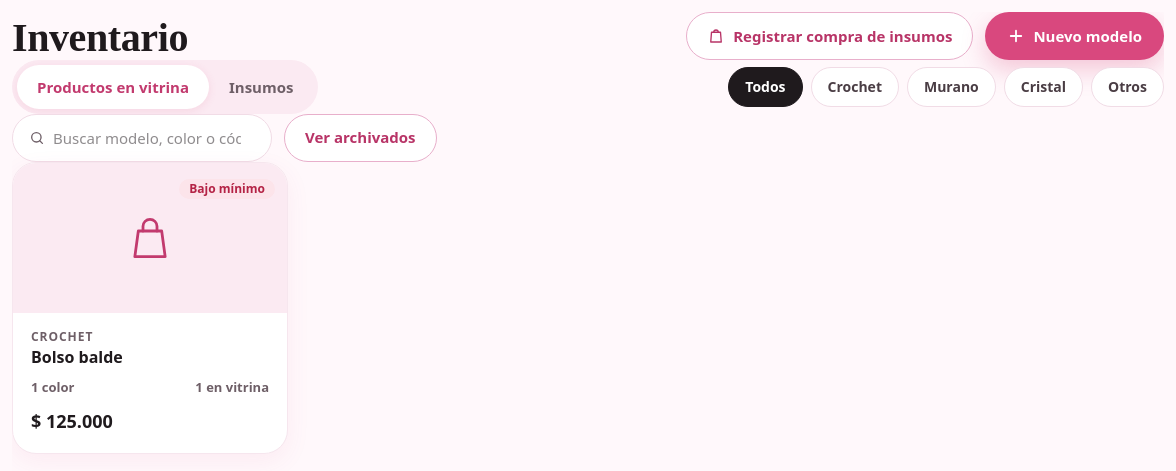
Test: búsqueda sin resultados ofrece borrarla
expect the heading "Bolso balde" is shown: met, box [31, 346, 123, 368]
Type "zz" into the search field labelled "Buscar" at (154, 138), box [53, 127, 255, 149]
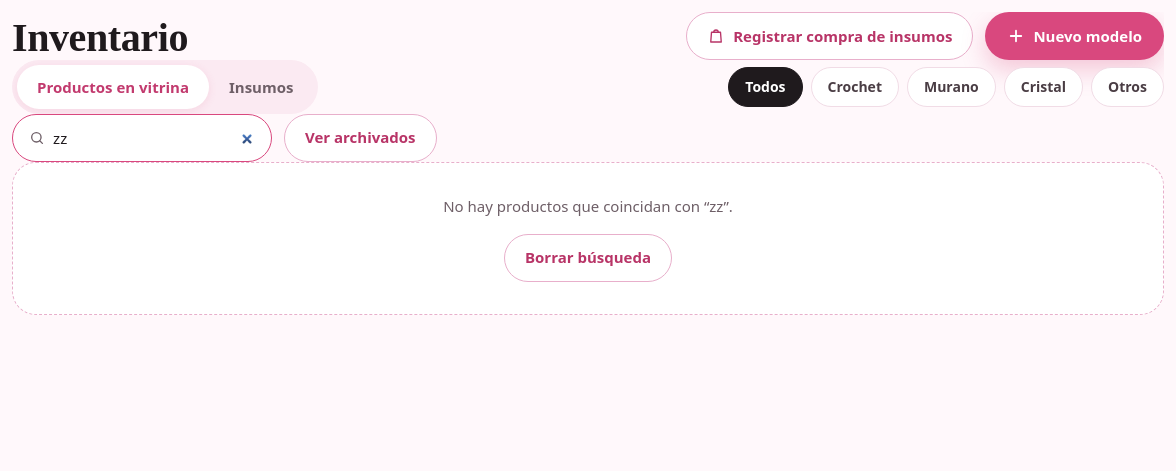
expect the text "No hay productos que coincidan con “zz”." is shown: met, box [443, 195, 733, 218]
Click the button "Borrar búsqueda" at (588, 258), box [504, 234, 672, 282]
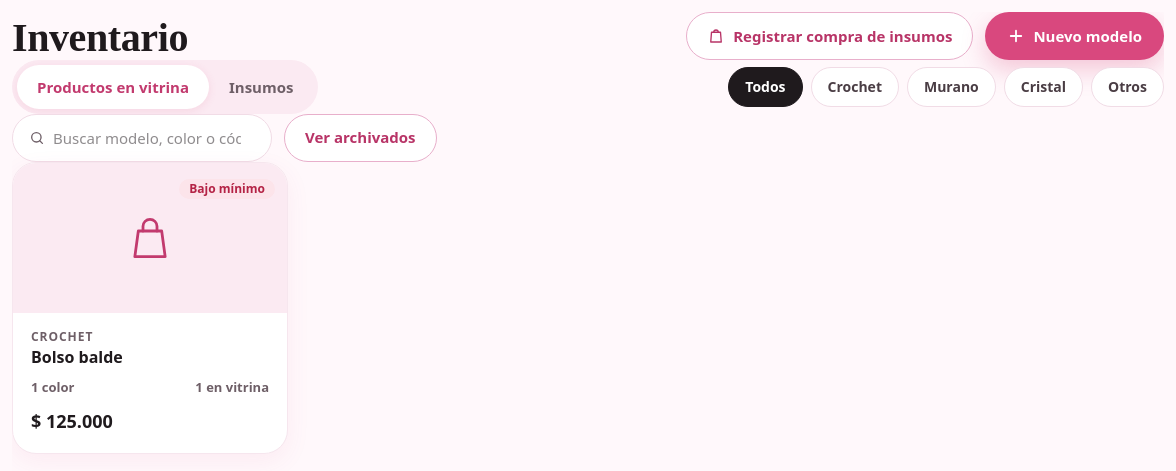
expect the heading "Bolso balde" is shown: met, box [31, 346, 123, 368]
